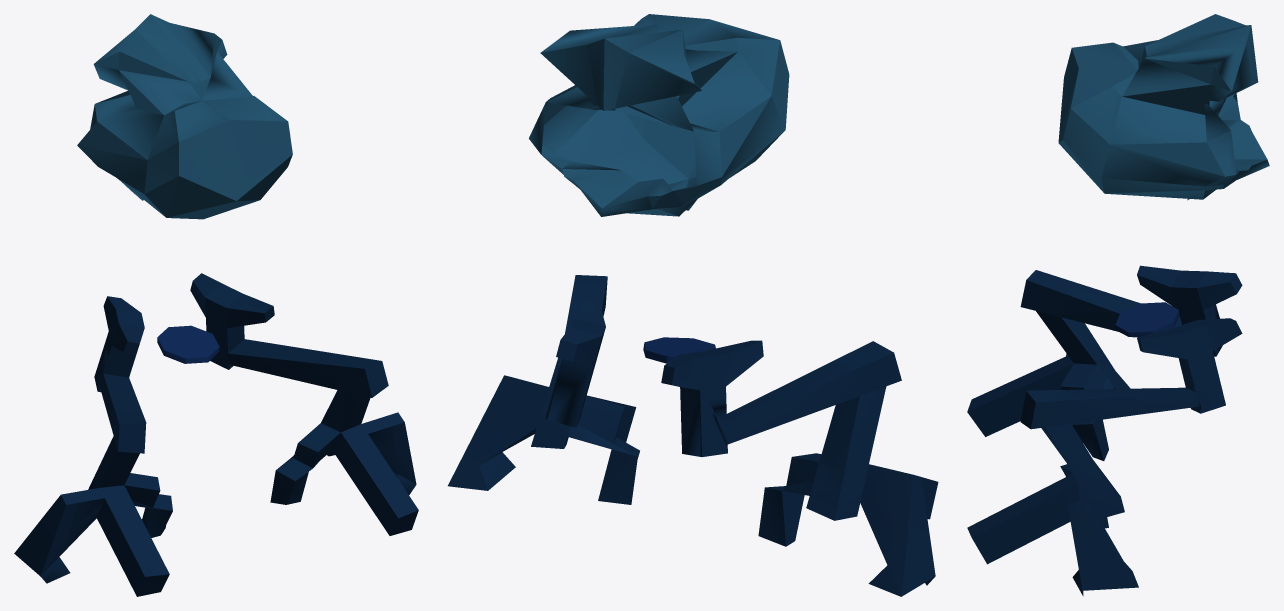
Rendered from mech0.obj.
3 renders of one model, left to right at view 1: azimuth 30°, elevation 25°; view 2: azimuth 150°, elevation 25°; view 3: azimuth 270°, elevation 25°, orthographic. The views are drawn at different scales.
Visible parts, largest first — view 1: s.0481, s.0739, s.0740, s.0735; view 2: s.0481, s.0740, s.0739, s.0735; view 3: s.0481, s.0739, s.0740, s.0735.
Part boxes in pixels (box(x1,y1,x2,y2)): s.0481: box(77, 14, 292, 219); s.0739: box(190, 273, 418, 535); s.0740: box(14, 296, 172, 596); s.0735: box(157, 325, 219, 363); s.0481: box(529, 14, 789, 216); s.0740: box(661, 340, 938, 596); s.0739: box(448, 275, 639, 504); s.0735: box(643, 337, 715, 363); s.0481: box(1058, 14, 1269, 200); s.0739: box(967, 318, 1242, 596); s.0740: box(967, 265, 1242, 460); s.0735: box(1114, 302, 1179, 337).
Size of the model in its own units: 4.84 by 5.72 by 3.25.
